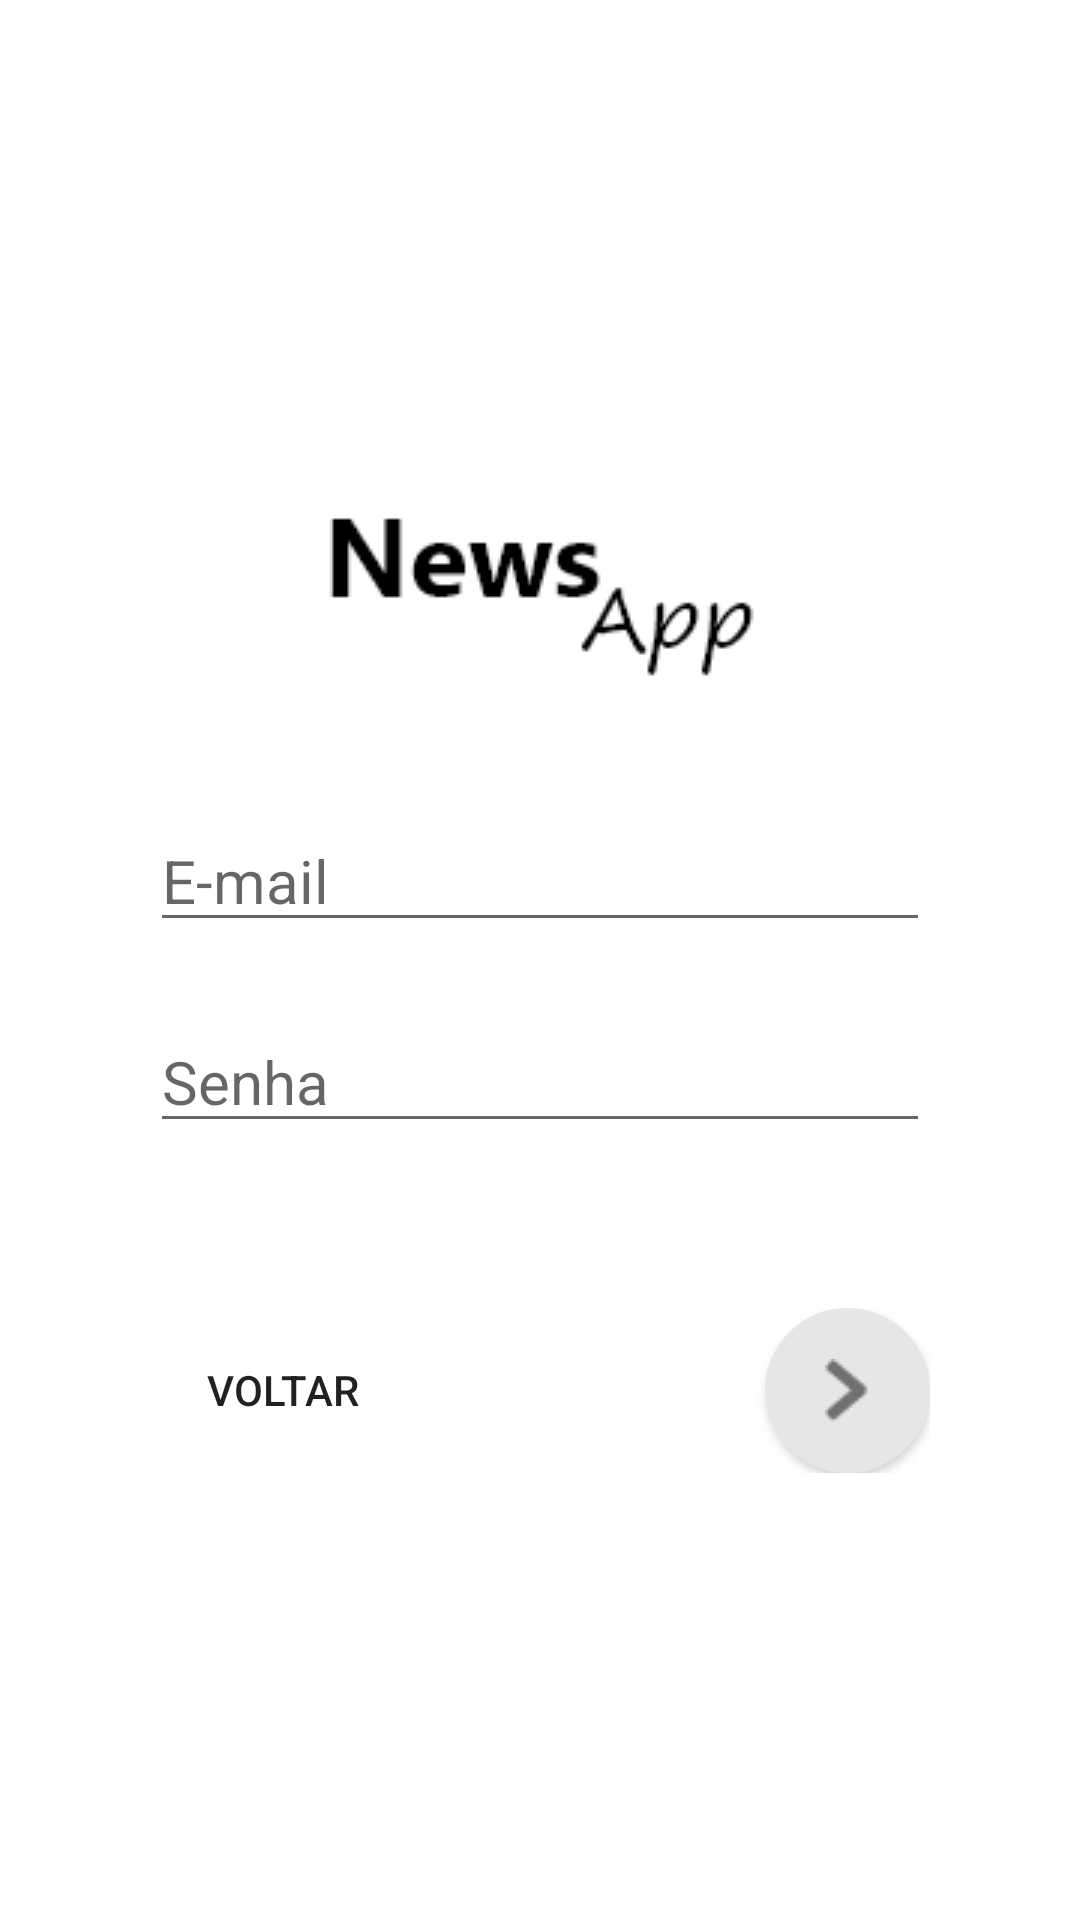

Icons on this 1080px x 1920px Android screen, each with its box as BBox(x1, y1, x2, y2):
right: BBox(765, 1308, 930, 1473)
